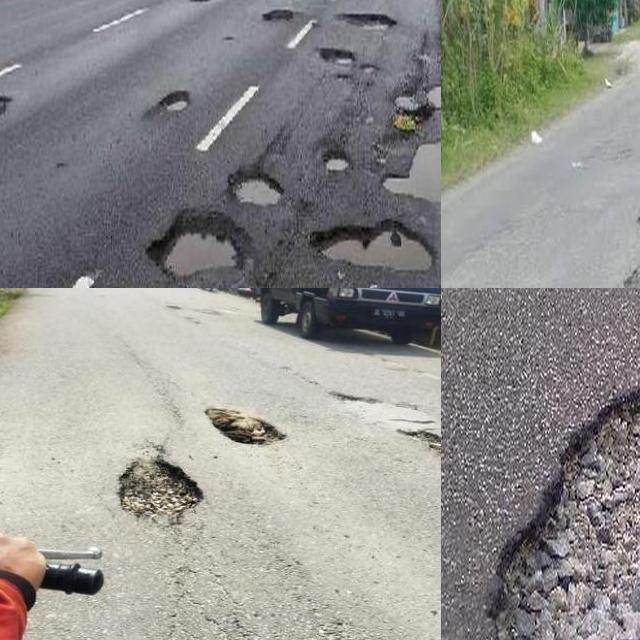Lubang: (499, 387, 640, 640), (309, 226, 438, 274), (156, 216, 246, 280), (119, 458, 203, 518), (199, 401, 278, 446), (235, 172, 283, 208), (305, 45, 355, 75), (157, 89, 192, 114), (321, 144, 352, 166), (259, 11, 289, 33)
